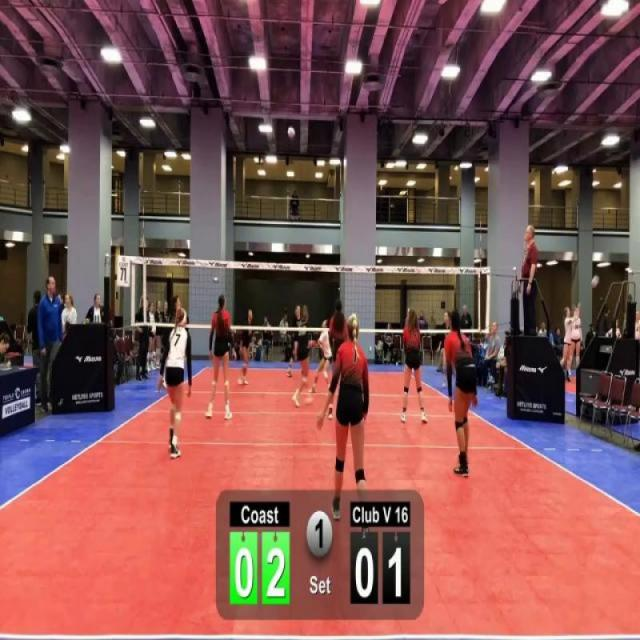volleyball: (286, 125, 296, 142), (590, 274, 600, 290)
